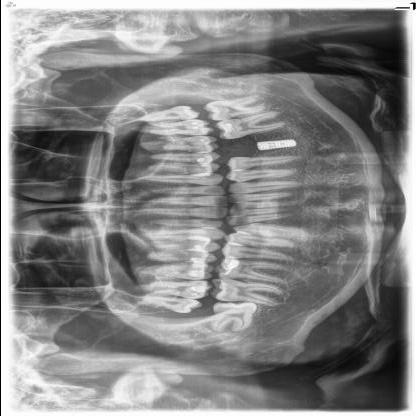ITI: (256, 136, 298, 152)
